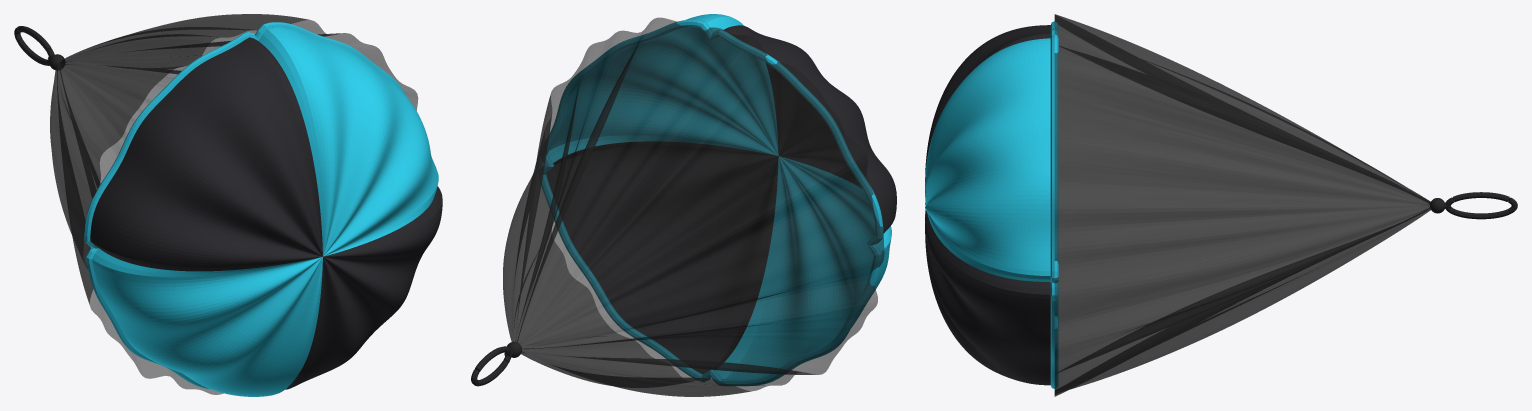
File: paracaidas.glb
The picture shows the model from 3 angles, left to right: view 1: azimuth 30°, elevation 25°; view 2: azimuth 150°, elevation 25°; view 3: azimuth 270°, elevation 25°; orthographic projection. The views are drawn at different scales.
Visible parts, largest first — view 1: canopy_black, canopy_blue, mesh_skirt, rim_hem, cord; view 2: mesh_skirt, canopy_black, canopy_blue, rim_hem, cord; view 3: mesh_skirt, canopy_blue, canopy_black, rim_hem, cord.
Boxes of the visible parts, x1=… form: canopy_black: x1=90, y1=37, x2=442, y2=389; canopy_blue: x1=92, y1=27, x2=438, y2=396; mesh_skirt: x1=50, y1=14, x2=418, y2=394; rim_hem: x1=84, y1=22, x2=404, y2=389; cord: x1=14, y1=26, x2=64, y2=70; mesh_skirt: x1=503, y1=17, x2=884, y2=396; canopy_black: x1=546, y1=25, x2=896, y2=373; canopy_blue: x1=548, y1=14, x2=891, y2=378; rim_hem: x1=541, y1=19, x2=883, y2=386; cord: x1=471, y1=341, x2=521, y2=386; mesh_skirt: x1=1054, y1=14, x2=1430, y2=396; canopy_blue: x1=925, y1=38, x2=1050, y2=281; canopy_black: x1=925, y1=25, x2=1050, y2=385; rim_hem: x1=1050, y1=21, x2=1058, y2=388; cord: x1=1430, y1=192, x2=1517, y2=219.
Size of the model in its own units: 0.3464 by 0.3471 by 0.5308.
